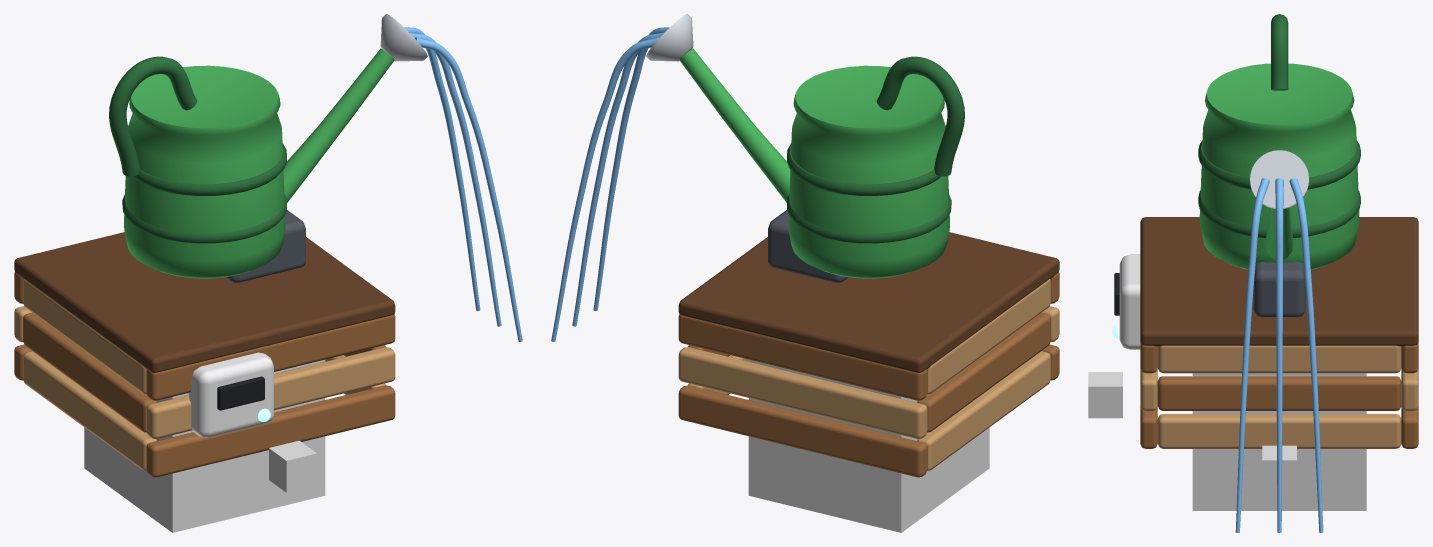
The model's file is WateringCan.fbx.
3 views of the same model, side by side, from view 1: azimuth 30°, elevation 25°; view 2: azimuth 150°, elevation 25°; view 3: azimuth 270°, elevation 25° (orthographic).
Visible parts, largest first — view 1: Can__Green, Body__WoodDark, Body__Wood, Body__WoodLight, Origin__Pivot, Can__GreenDark, Can__Water, Body__White, Origin__AxisZ, Body__MetalDark, Can__Chrome, Body__Black; view 2: Can__Green, Body__WoodDark, Body__Wood, Body__WoodLight, Origin__Pivot, Can__GreenDark, Can__Water, Body__MetalDark, Can__Chrome; view 3: Body__WoodDark, Can__Green, Body__WoodLight, Body__Wood, Origin__Pivot, Can__Water, Can__GreenDark, Body__MetalDark, Can__Chrome, Body__White, Origin__AxisZ, Origin__AxisX.
Boxes of the visible parts, left/top/right/bottom form: Can__Green: left=124, top=48, right=394, bottom=278; Body__WoodDark: left=14, top=232, right=395, bottom=372; Body__Wood: left=14, top=272, right=395, bottom=477; Body__WoodLight: left=14, top=279, right=395, bottom=470; Origin__Pivot: left=84, top=359, right=325, bottom=532; Can__GreenDark: left=109, top=56, right=286, bottom=243; Can__Water: left=404, top=27, right=522, bottom=341; Body__White: left=188, top=352, right=273, bottom=437; Origin__AxisZ: left=269, top=440, right=316, bottom=492; Body__MetalDark: left=225, top=210, right=305, bottom=282; Can__Chrome: left=380, top=14, right=427, bottom=61; Body__Black: left=217, top=376, right=264, bottom=410; Can__Green: left=679, top=48, right=949, bottom=278; Body__WoodDark: left=678, top=232, right=1059, bottom=372; Body__Wood: left=678, top=272, right=1059, bottom=477; Body__WoodLight: left=678, top=279, right=1059, bottom=470; Origin__Pivot: left=748, top=359, right=989, bottom=532; Can__GreenDark: left=787, top=56, right=964, bottom=243; Can__Water: left=551, top=27, right=669, bottom=341; Body__MetalDark: left=768, top=210, right=848, bottom=282; Can__Chrome: left=646, top=14, right=693, bottom=61; Body__WoodDark: left=1140, top=217, right=1418, bottom=346; Can__Green: left=1199, top=63, right=1359, bottom=269; Body__WoodLight: left=1140, top=345, right=1418, bottom=448; Body__Wood: left=1140, top=342, right=1418, bottom=448; Origin__Pivot: left=1192, top=373, right=1366, bottom=510; Can__Water: left=1235, top=178, right=1323, bottom=532; Can__GreenDark: left=1198, top=14, right=1360, bottom=237; Body__MetalDark: left=1253, top=262, right=1305, bottom=316; Can__Chrome: left=1250, top=150, right=1309, bottom=208; Body__White: left=1119, top=254, right=1140, bottom=349; Origin__AxisZ: left=1088, top=372, right=1122, bottom=418; Origin__AxisX: left=1262, top=445, right=1296, bottom=491.
Size of the model in its own units: 2.74 by 2.73 by 1.9.
